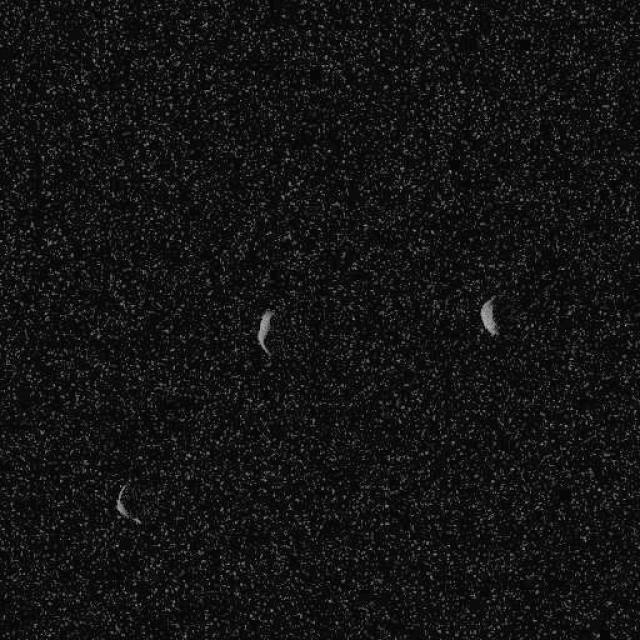D2: (114, 481, 141, 525), (255, 308, 275, 357), (479, 294, 500, 336)
